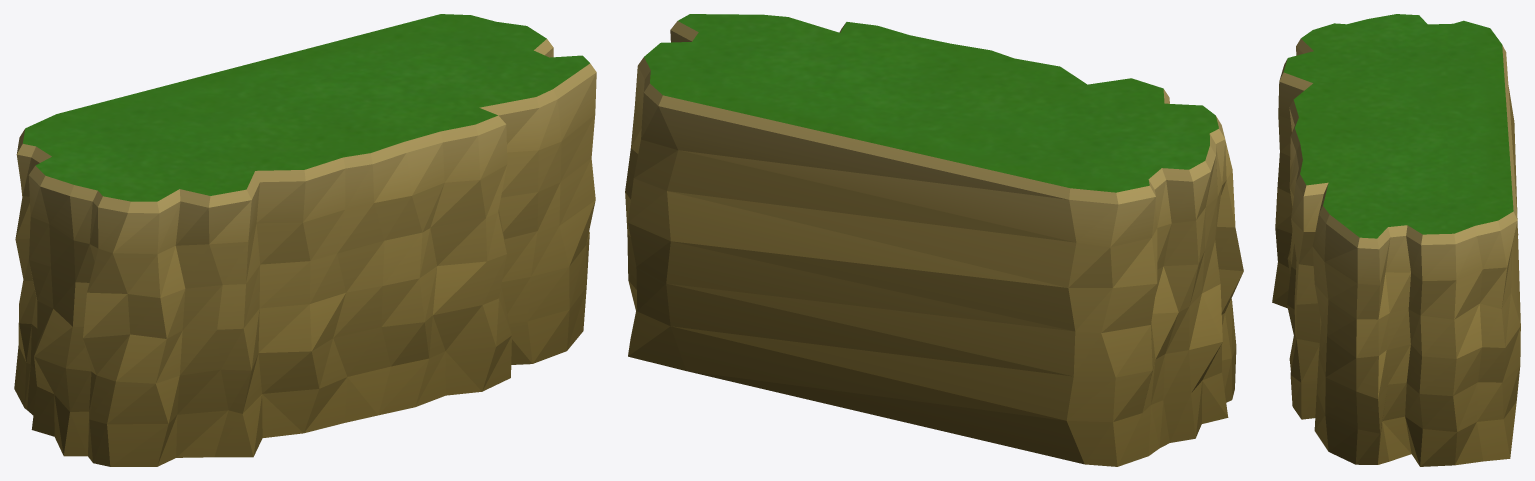
Rendered from NormalCliff_02.FBX.
3 renders of one model, left to right at view 1: azimuth 30°, elevation 25°; view 2: azimuth 150°, elevation 25°; view 3: azimuth 270°, elevation 25°, orthographic. The views are drawn at different scales.
Visible parts, largest first — view 1: Plane006; view 2: Plane006; view 3: Plane006.
Boxes of the visible parts, bbox=[...] form: Plane006: bbox=[14, 14, 596, 466]; Plane006: bbox=[625, 14, 1243, 466]; Plane006: bbox=[1272, 14, 1520, 466].
Bounding box in the file's own units: 608 × 282 × 273.
